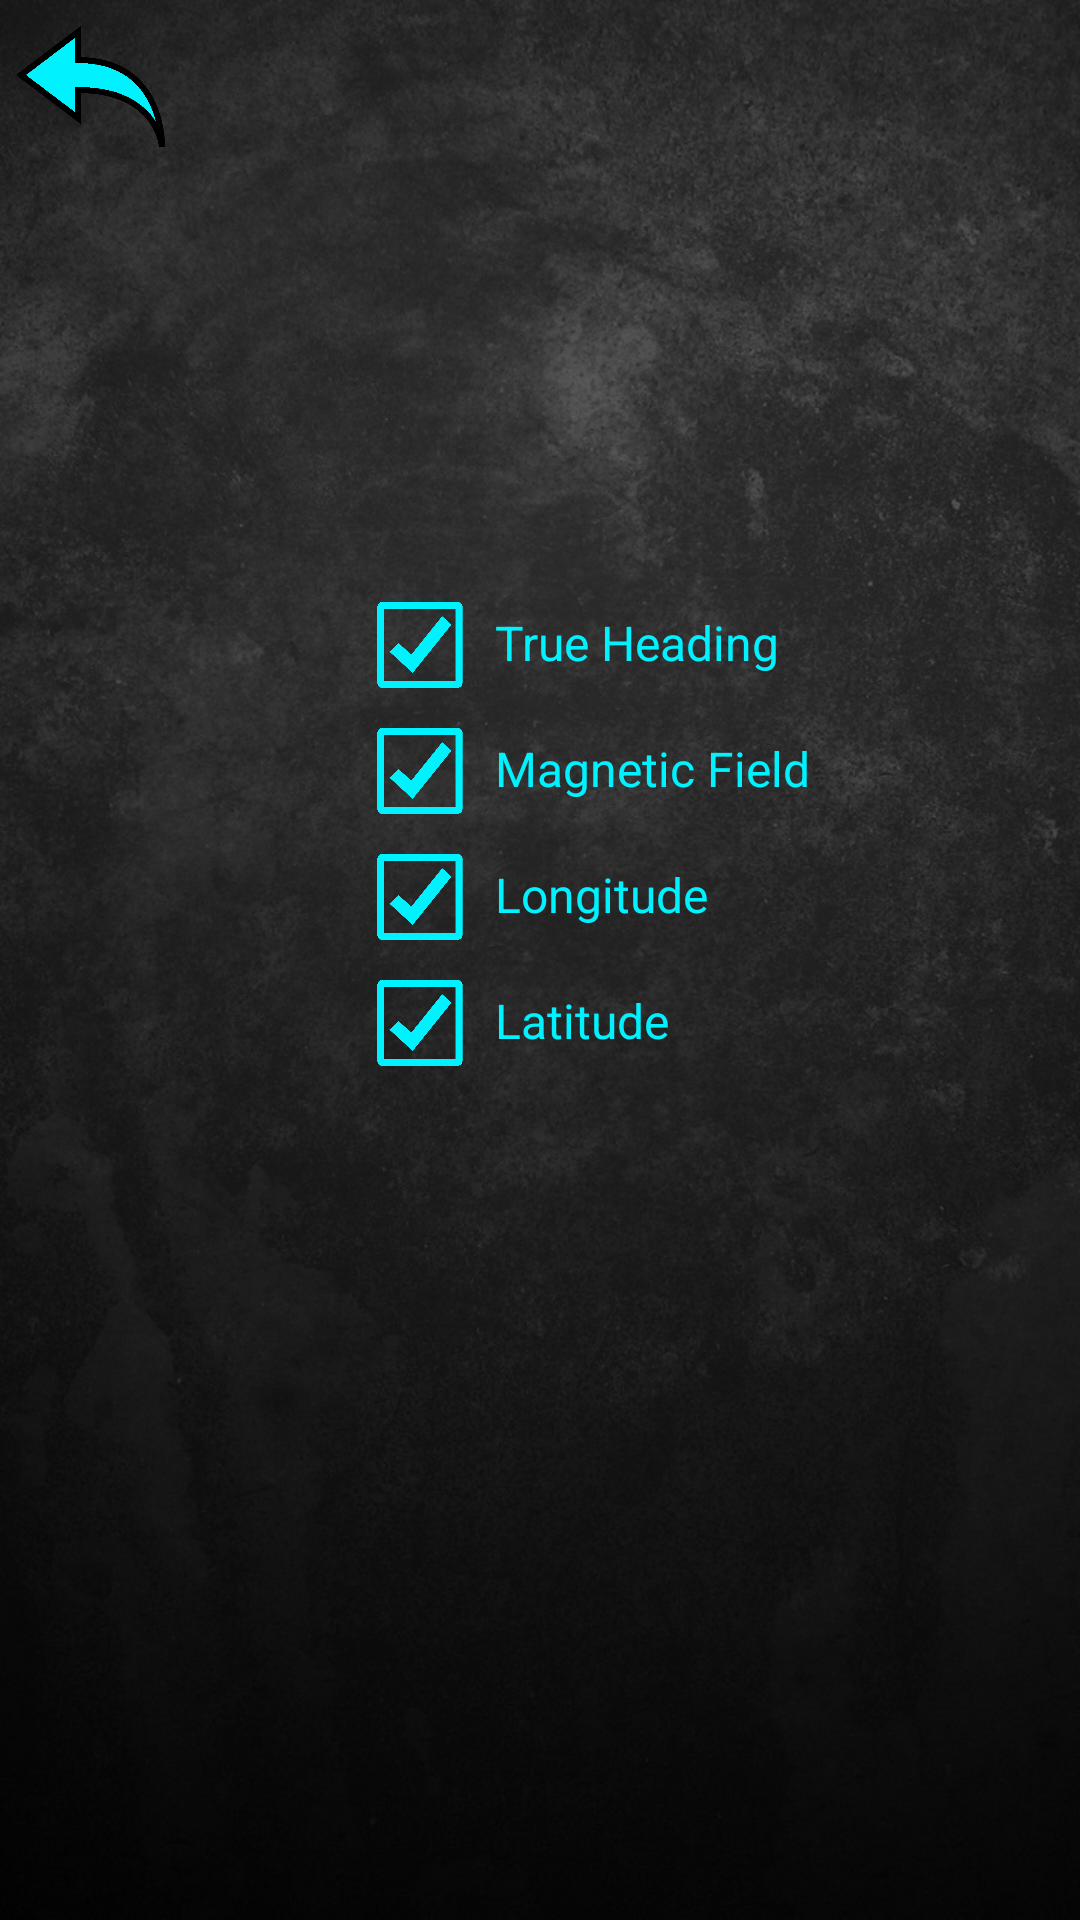

Icon bounding boxes for this 1080*1920 phone screenshot, format (x1, y1, x2, y2):
arrow: (17, 26, 165, 147)
